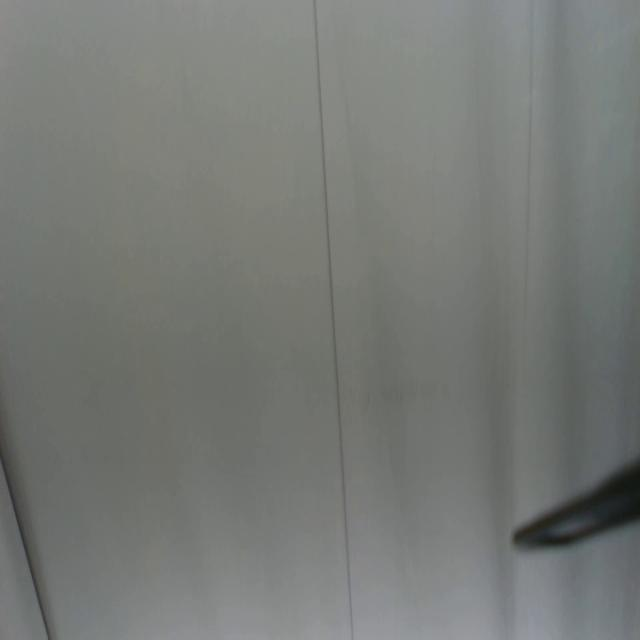crease: (309, 0, 358, 640), (0, 444, 52, 640), (519, 0, 537, 379)
